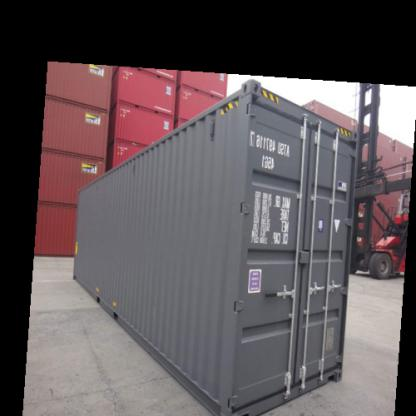Damage: (247, 98, 306, 122), (123, 156, 149, 188)
